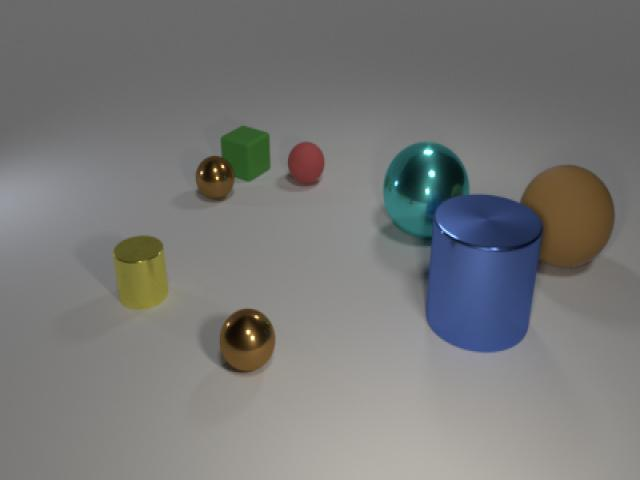cylinder: (421, 181, 544, 365), (107, 228, 176, 316)
round ball: (515, 156, 623, 282), (378, 136, 479, 245), (211, 302, 282, 376), (191, 146, 238, 205), (285, 135, 329, 191)
